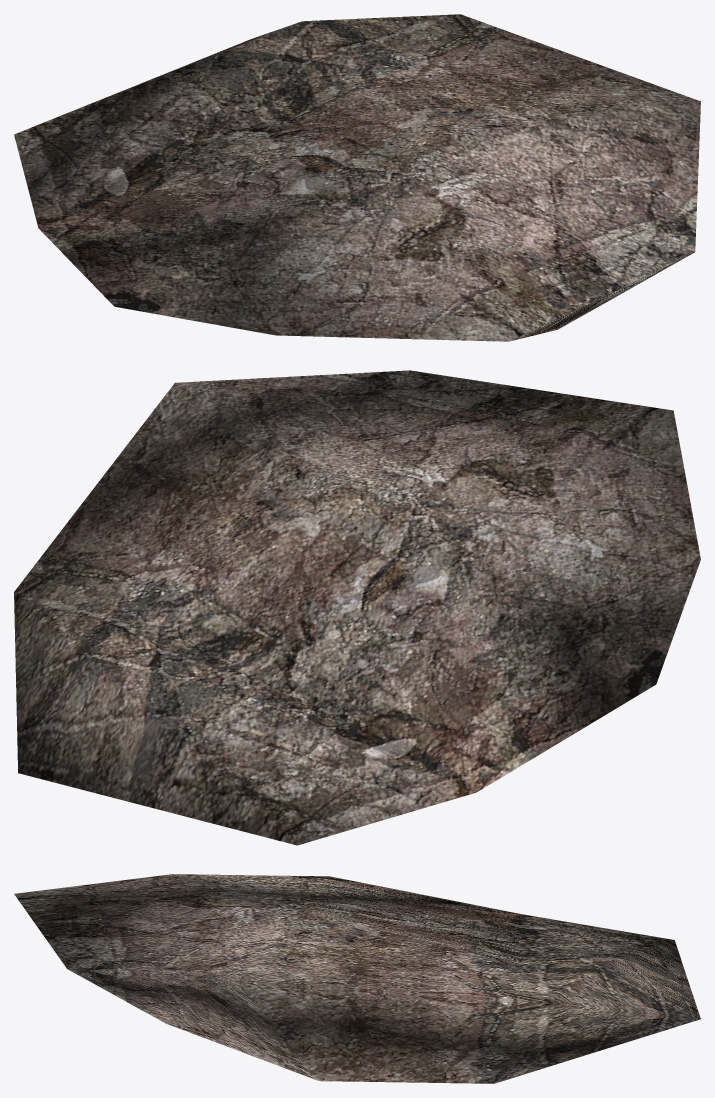
The model's file is rock3.glb.
3 views of the same model, one above another, from view 1: azimuth 30°, elevation 25°; view 2: azimuth 150°, elevation 25°; view 3: azimuth 270°, elevation 25° (orthographic). The views are drawn at different scales.
Parts seen in each view (by area): view 1: rock; view 2: rock; view 3: rock.
Boxes of the visible parts, x1,y1,x2,y2 form: rock: (14, 14, 700, 341); rock: (14, 370, 700, 845); rock: (14, 874, 700, 1083).
Bounding box in the file's own units: 10.96 × 4.35 × 16.11.
Materials: 1 (1 with a texture image).
